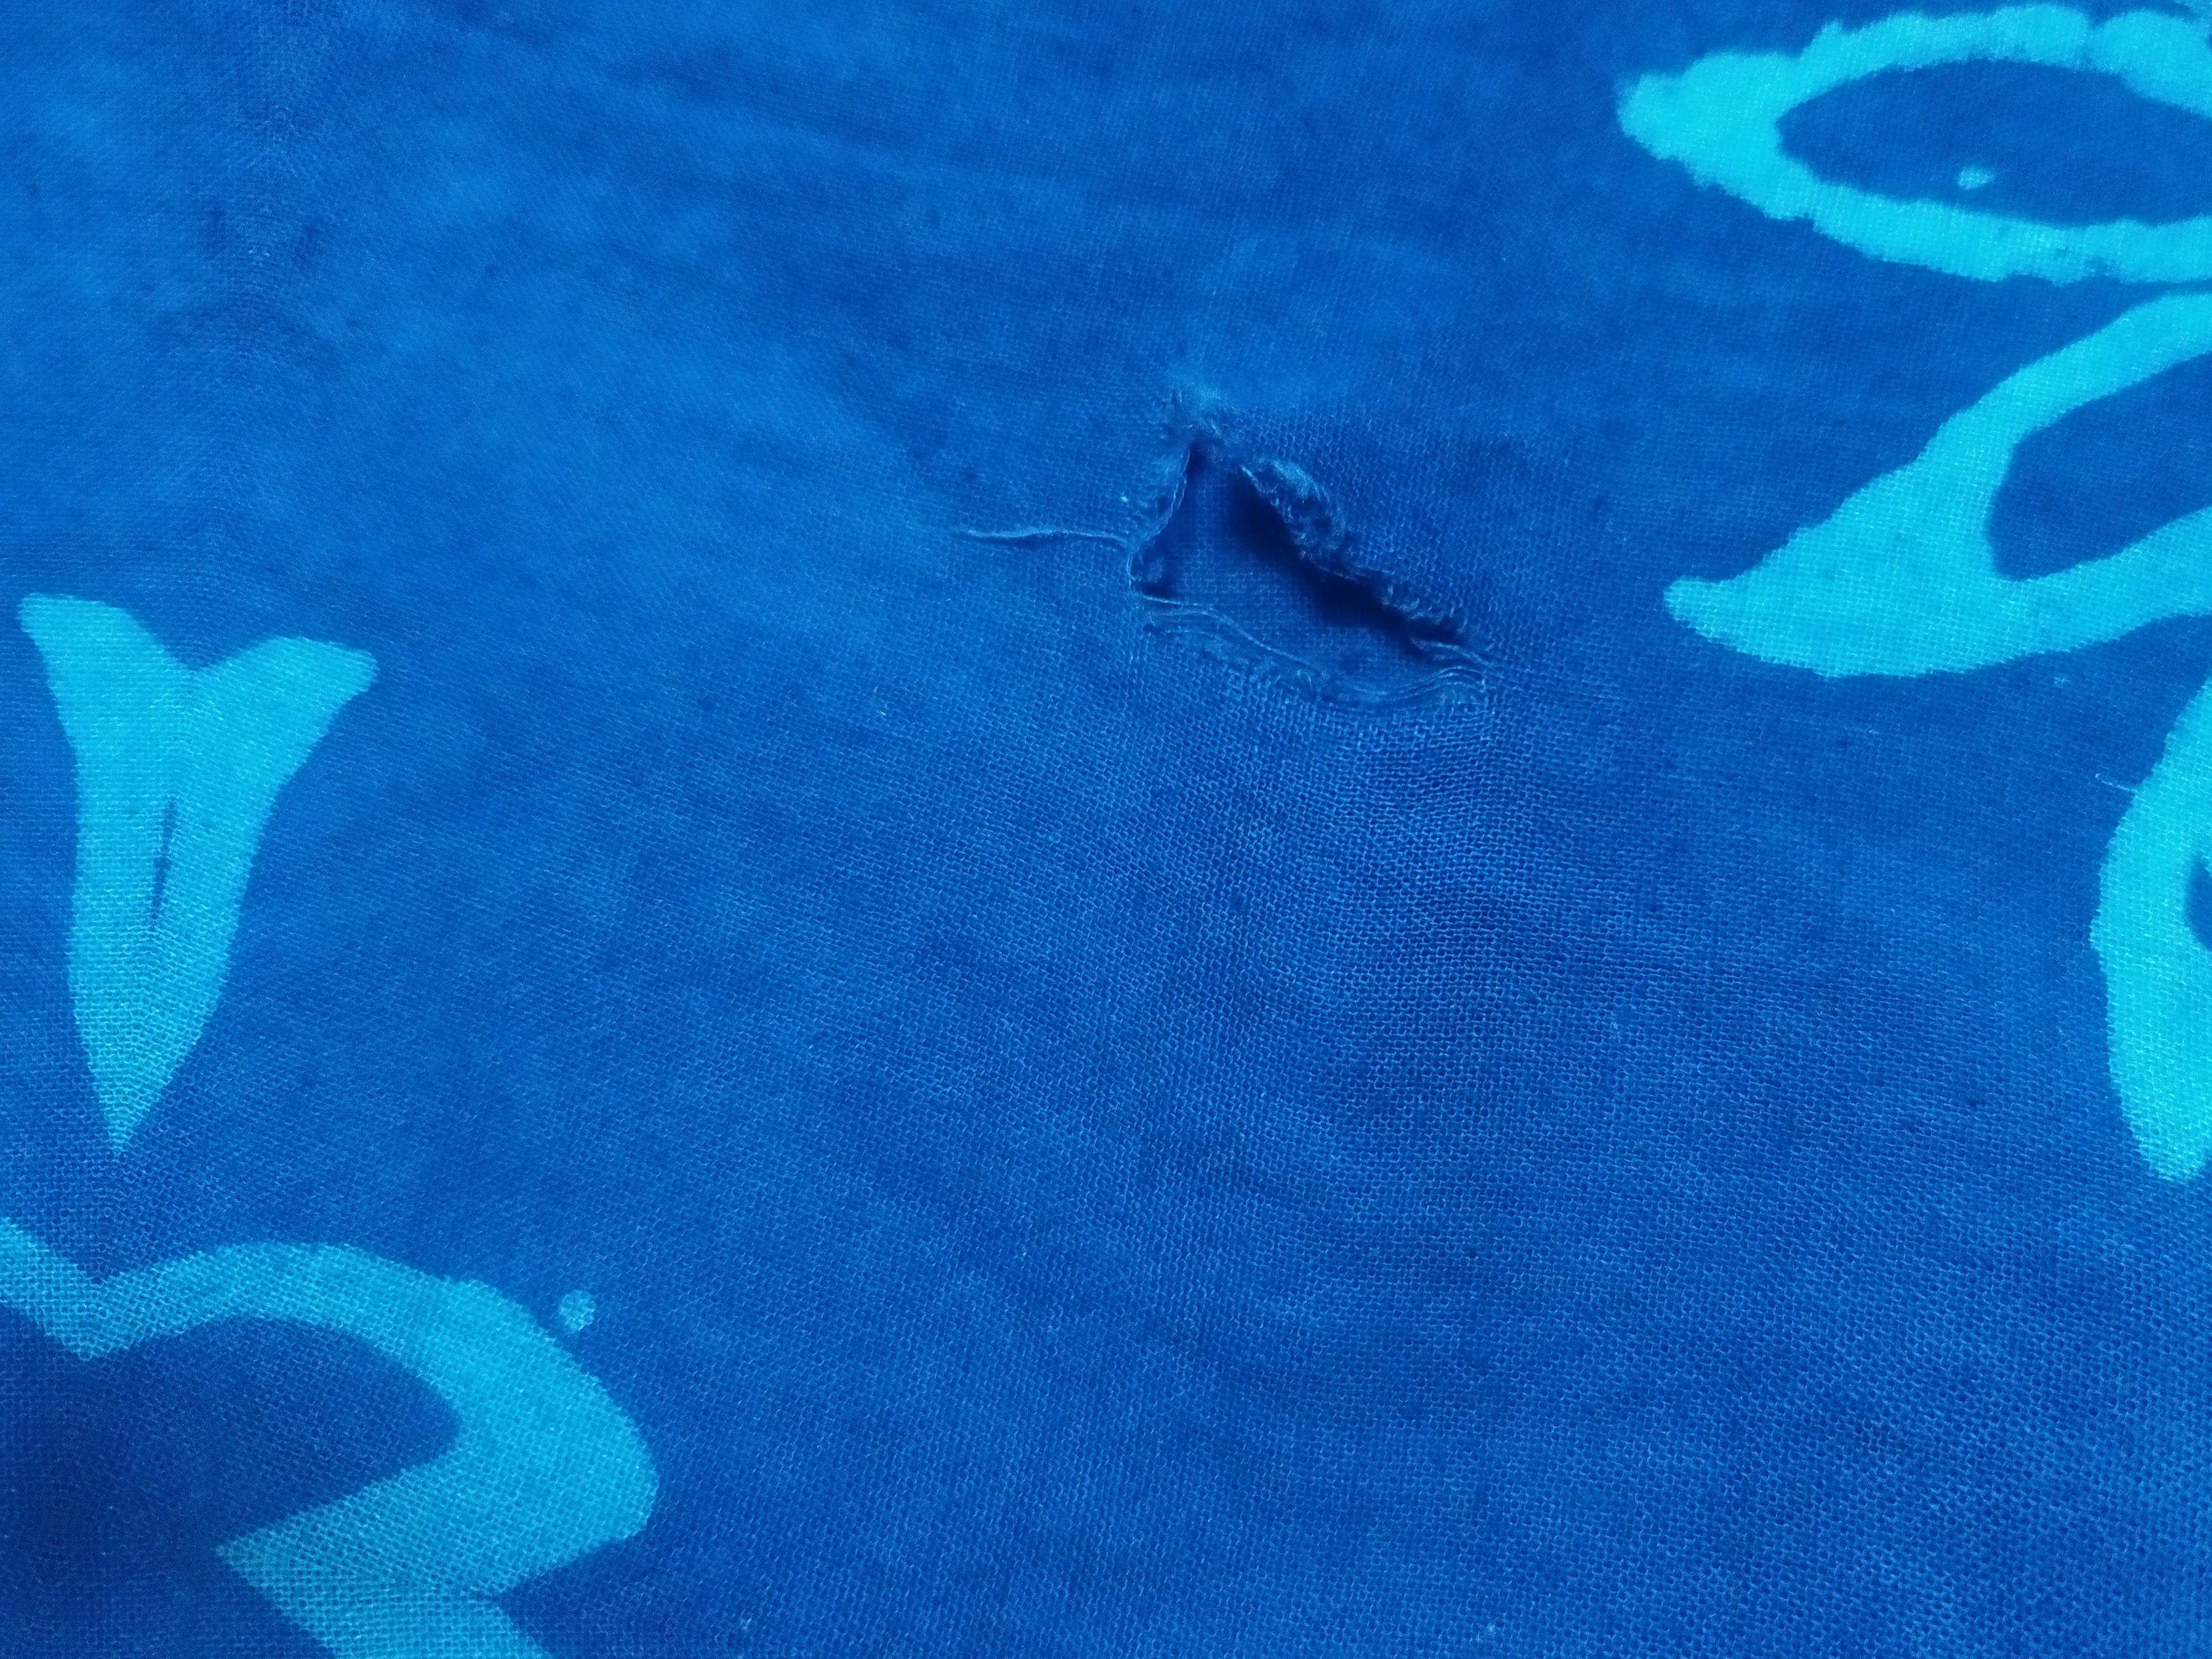hole: (1097, 392, 1514, 756)
